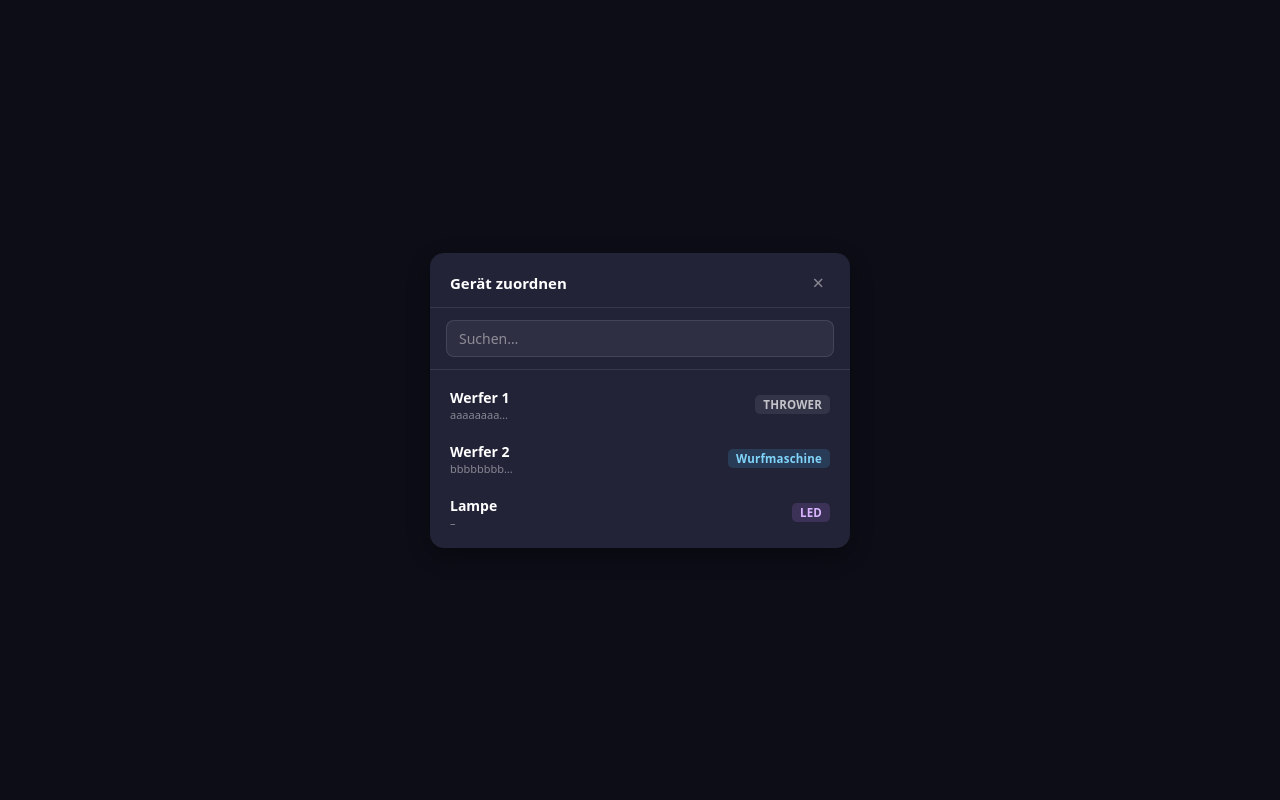
Test case: DeviceSearchModal › shows the empty hint when nothing matches
This screenshot has width=1280, height=800.
In the field with placeholder "Suchen…": (640, 338) [446,320,834,356], type "zzz"
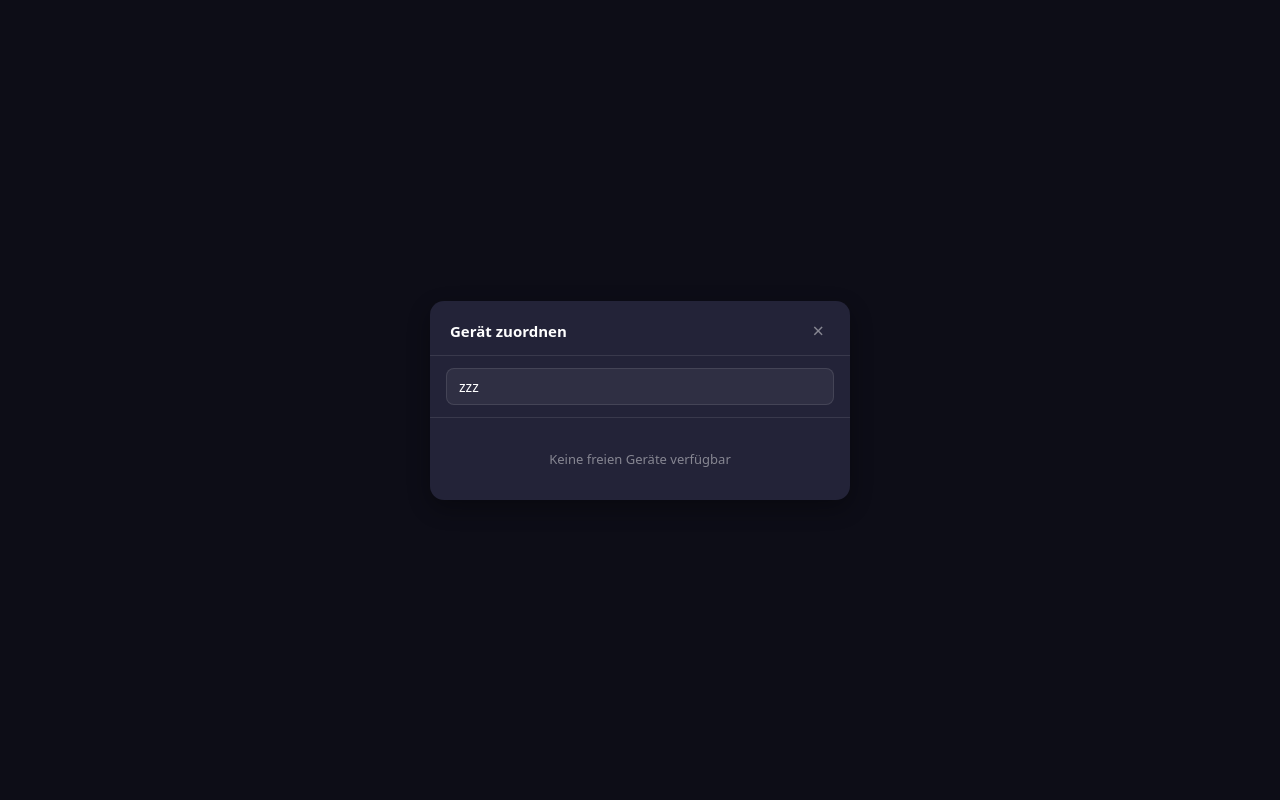
Check: no buttons with class "device-row" are shown
Check: the text "Keine freien Geräte verfügbar" is shown, box [549,450,731,468]
